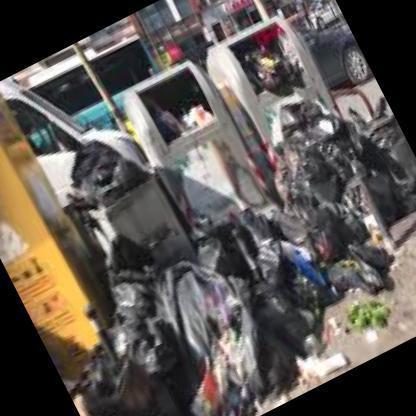Garbage: (113, 212, 326, 415), (270, 87, 416, 292), (202, 212, 341, 392), (105, 234, 243, 415), (267, 165, 401, 314), (68, 336, 210, 415), (49, 121, 154, 212), (348, 103, 415, 227), (143, 72, 214, 140), (237, 31, 304, 96)
